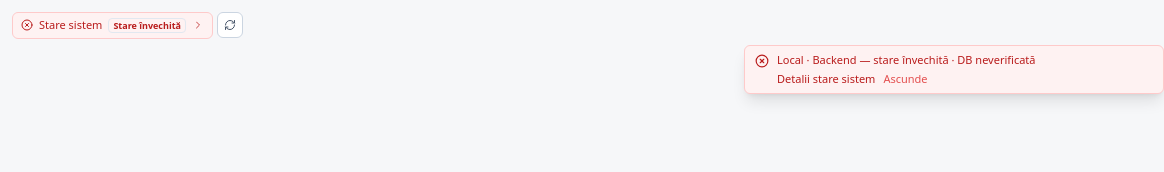
EnvironmentBanner › shows critical strip for unavailable and keeps chip after dismiss
Expected: the text with test id "environment-banner-stale" reads "Stare învechită", [113,18,181,32]
Expected: the text with test id "environment-banner-main" reads "Stare sistem", [39,17,102,32]
Click the button with test id "environment-banner-critical-dismiss": (906,79) [883,71,928,87]
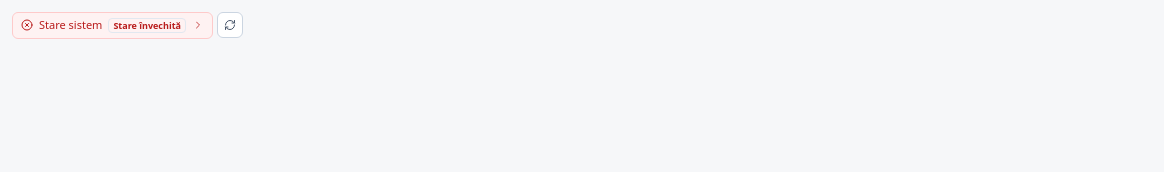
Expected: the text with test id "environment-banner-main" reads "Stare sistem", [39,17,102,32]
Result: the element with test id "environment-banner-critical-strip" is gone
